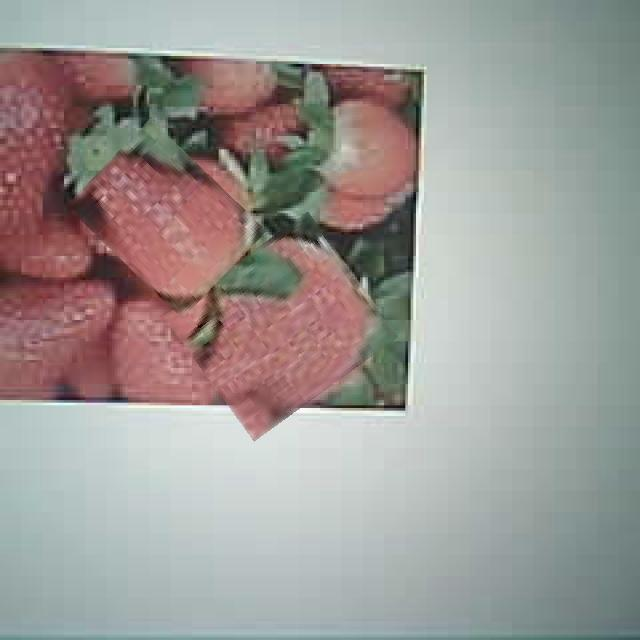strawberry: (177, 230, 384, 422), (76, 138, 258, 299)
